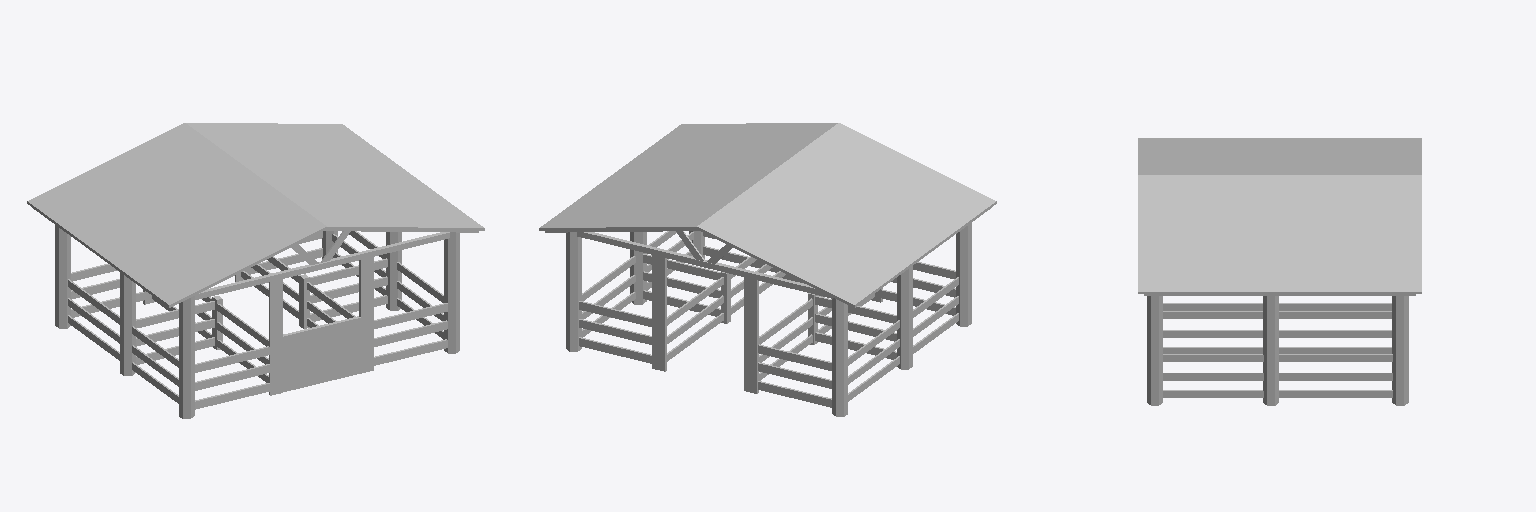
File: corral.obj
3 renders of one model, left to right at view 1: azimuth 30°, elevation 25°; view 2: azimuth 150°, elevation 25°; view 3: azimuth 270°, elevation 25°, orthographic.
Parts seen in each view (by area): view 1: Sphere01_0; view 2: Sphere01_0; view 3: Sphere01_0.
Boxes of the visible parts, <box> form: Sphere01_0: <box>27,123,484,418</box>; Sphere01_0: <box>539,123,996,416</box>; Sphere01_0: <box>1138,138,1421,405</box>.
Bounding box in the file's own units: 6.63 × 3.27 × 5.17.